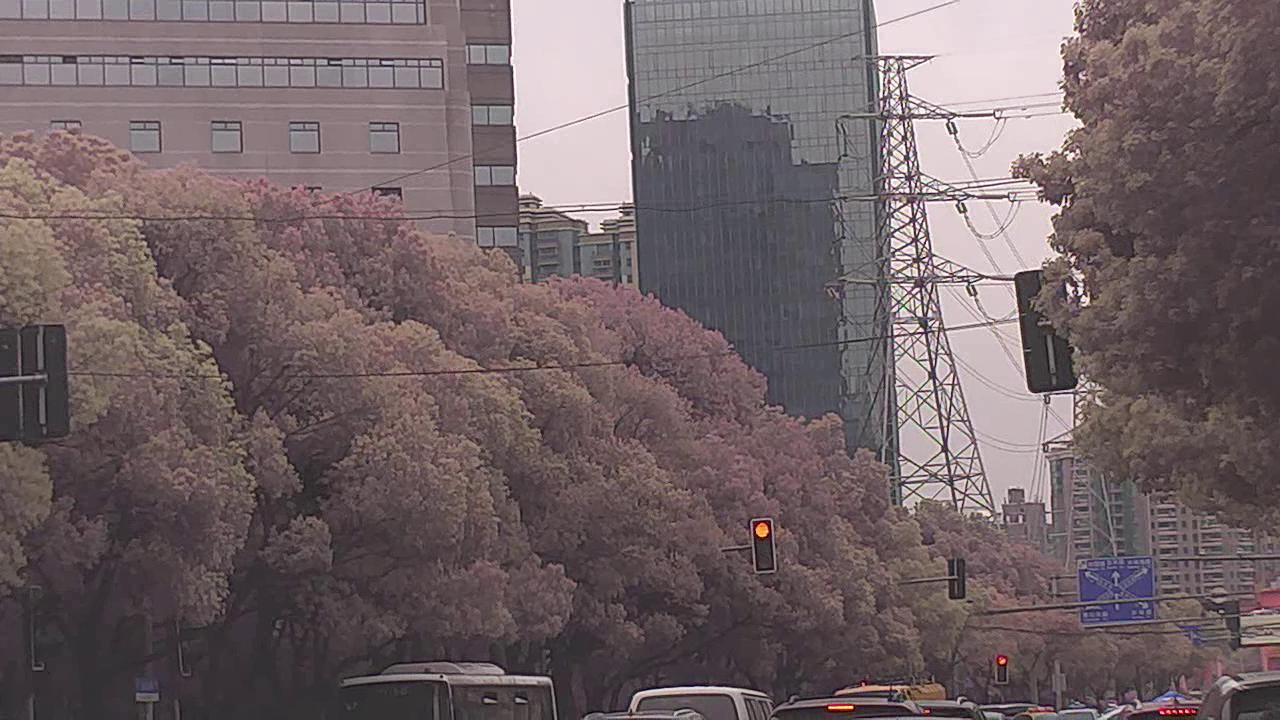traffic_light: (750, 517, 776, 576), (995, 652, 1009, 686)
